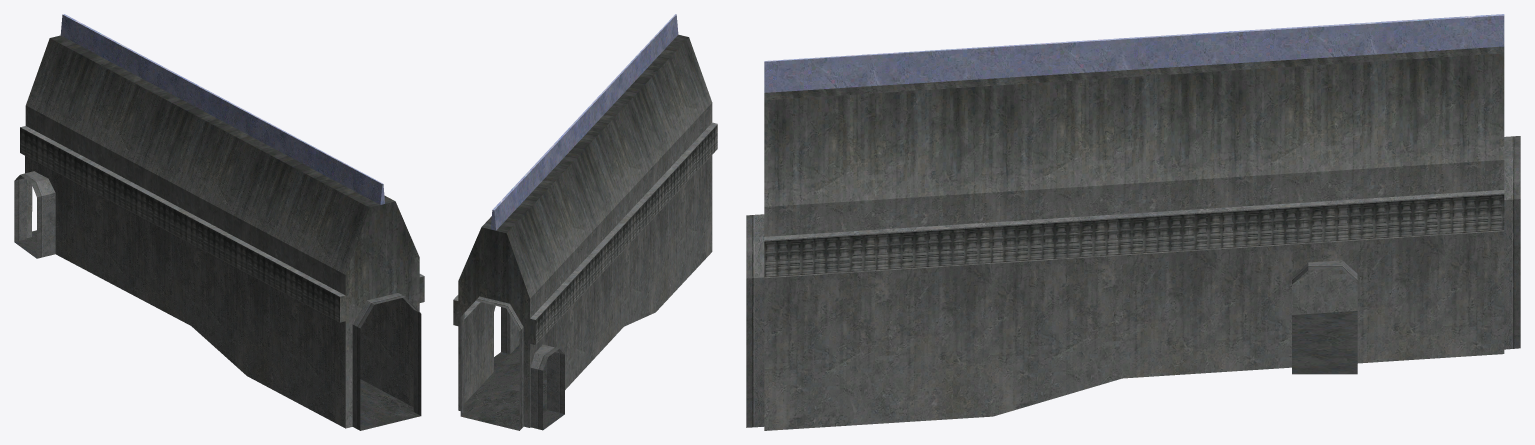
Rendered from thm_yavn_jedi_enclave_dark_r12_hallwaya2_mesh.fbx.
3 views of the same model, side by side, from view 1: azimuth 30°, elevation 25°; view 2: azimuth 150°, elevation 25°; view 3: azimuth 270°, elevation 25° (orthographic). The views are drawn at different scales.
Visible parts, largest first — view 1: mesh_node; view 2: mesh_node; view 3: mesh_node.
Part boxes in pixels (left/top/right/bottom): mesh_node: left=14, top=14, right=424, bottom=430; mesh_node: left=453, top=14, right=717, bottom=430; mesh_node: left=746, top=14, right=1520, bottom=430.
Bounding box in the file's own units: 8.06 × 11.5 × 23.5.
